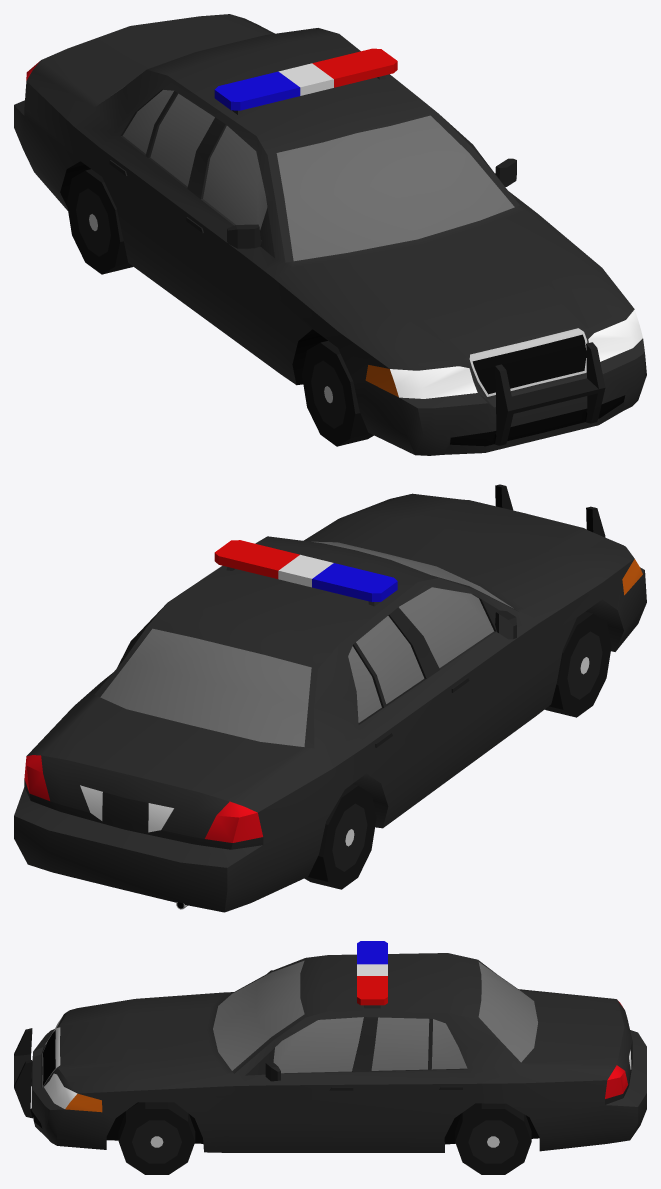
Rendered from policesedan.fbx.
3 views of the same model, one above another, from view 1: azimuth 30°, elevation 25°; view 2: azimuth 150°, elevation 25°; view 3: azimuth 270°, elevation 25° (orthographic). The views are drawn at different scales.
Parts seen in each view (by area): view 1: Cube.001, Cylinder.000, Cylinder.001; view 2: Cube.001, Cylinder.001, Cylinder.000; view 3: Cube.001, Cylinder.002, Cylinder.003.
Part boxes in pixels (x1,y1,x2,y2): Cube.001: [14, 14, 646, 455]; Cylinder.000: [302, 341, 373, 446]; Cylinder.001: [67, 169, 133, 274]; Cube.001: [14, 484, 646, 912]; Cylinder.001: [304, 784, 376, 889]; Cylinder.000: [545, 611, 611, 717]; Cube.001: [14, 941, 646, 1152]; Cylinder.002: [118, 1102, 195, 1174]; Cylinder.003: [455, 1103, 531, 1174].
Bounding box in the file's own units: 254 × 188 × 673.
